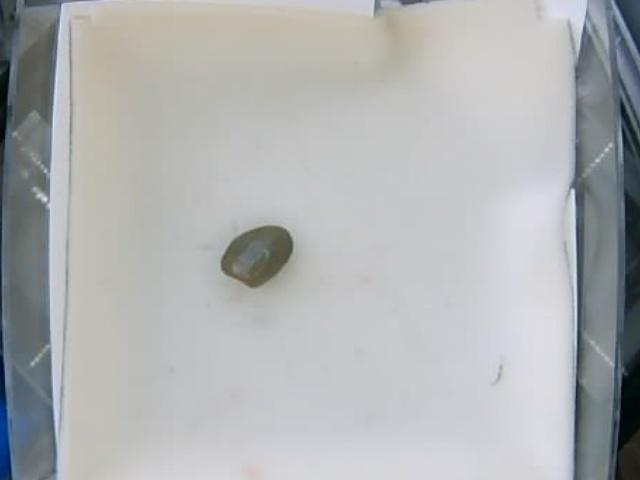Pebble: (220, 224, 295, 287)
